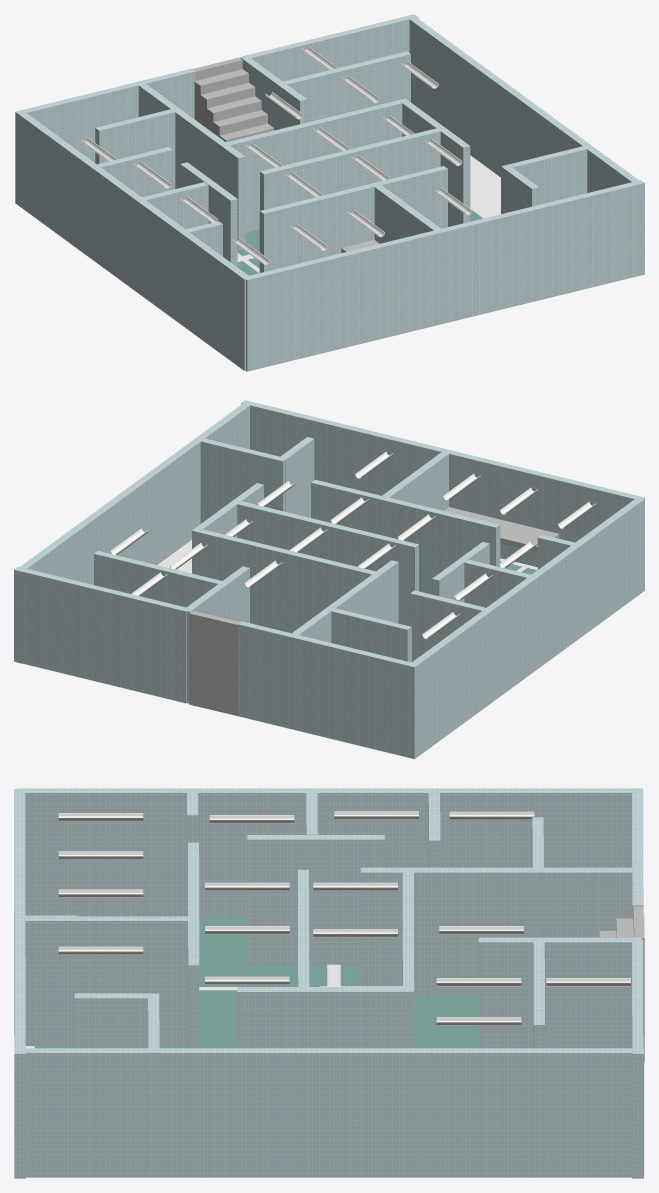
The model's file is labmaze.fbx.
The picture shows the model from 3 angles, top to bottom: view 1: azimuth 30°, elevation 25°; view 2: azimuth 150°, elevation 25°; view 3: azimuth 270°, elevation 25°; orthographic projection. The views are drawn at different scales.
Parts seen in each view (by area): view 1: Cube__3_, Cube__1_, Cube, Cube__5_, Cube__9_, Cube__11_, Cube__19_, Cube__2_, Cube__16_, Cube__17_, Stairs, Cube__14_ (+10 smaller); view 2: Cube__1_, Cube__3_, Cube__19_, Cube__2_, Cube, Cube__11_, Cube__5_, Cube__9_, Stairs, Cube__6_, Cube__16_, Cube__17_ (+11 smaller); view 3: Cube, Cube__1_, Cube__17_, Cube__4_, Cube__15_, Cube__12_, Cube__8_, Plane, Cube__3_, Cube__7_, Cube__2_, Cube__5_ (+25 smaller).
Boxes of the visible parts, left/top/right/bottom form: Cube__3_: left=243, top=180, right=644, bottom=371; Cube__1_: left=15, top=111, right=251, bottom=370; Cube: left=406, top=14, right=641, bottom=192; Cube__5_: left=259, top=166, right=447, bottom=272; Cube__9_: left=260, top=127, right=443, bottom=210; Cube__11_: left=222, top=99, right=403, bottom=232; Cube__19_: left=15, top=68, right=195, bottom=202; Cube__2_: left=243, top=14, right=418, bottom=81; Cube__16_: left=277, top=51, right=410, bottom=122; Cube__17_: left=137, top=82, right=245, bottom=249; Stairs: left=192, top=57, right=273, bottom=142; Cube__14_: left=95, top=108, right=178, bottom=189; Cube__1_: left=408, top=498, right=644, bottom=758; Cube__3_: left=241, top=400, right=644, bottom=567; Cube__19_: left=238, top=621, right=417, bottom=758; Cube__2_: left=14, top=566, right=189, bottom=703; Cube: left=15, top=401, right=252, bottom=663; Cube__11_: left=194, top=529, right=380, bottom=633; Cube__5_: left=311, top=479, right=500, bottom=594; Cube__9_: left=237, top=501, right=418, bottom=626; Stairs: left=189, top=611, right=240, bottom=715; Cube__6_: left=200, top=438, right=286, bottom=523; Cube__16_: left=94, top=551, right=221, bottom=607; Cube__17_: left=290, top=560, right=398, bottom=642; Cube: left=20, top=1048, right=643, bottom=1177; Cube__1_: left=17, top=788, right=642, bottom=917; Cube__17_: left=360, top=867, right=637, bottom=997; Cube__4_: left=20, top=916, right=193, bottom=1045; Cube__15_: left=478, top=937, right=641, bottom=1048; Cube__12_: left=247, top=835, right=384, bottom=964; Cube__8_: left=237, top=987, right=413, bottom=1048; Plane: left=25, top=912, right=644, bottom=1176; Cube__3_: left=14, top=789, right=25, bottom=1178; Cube__7_: left=74, top=993, right=153, bottom=1048; Cube__2_: left=632, top=939, right=643, bottom=1178; Cube__5_: left=188, top=842, right=199, bottom=1048.
Size of the model in its own units: 6011 by 1318 by 6025.
